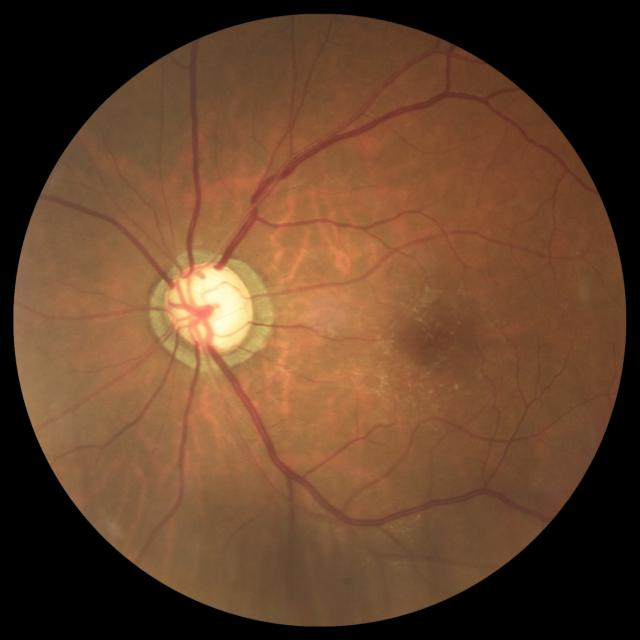OC: (174, 270, 248, 346)
OD: (166, 260, 255, 354)
